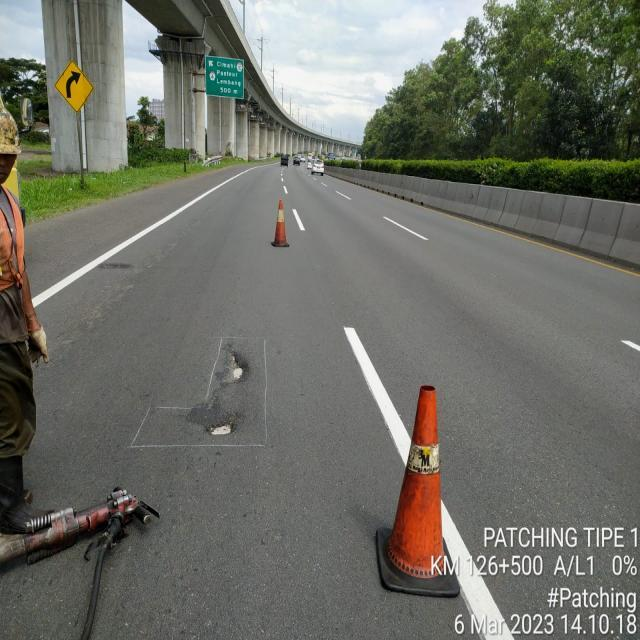Buraco: (217, 342, 252, 389), (204, 411, 246, 438)
